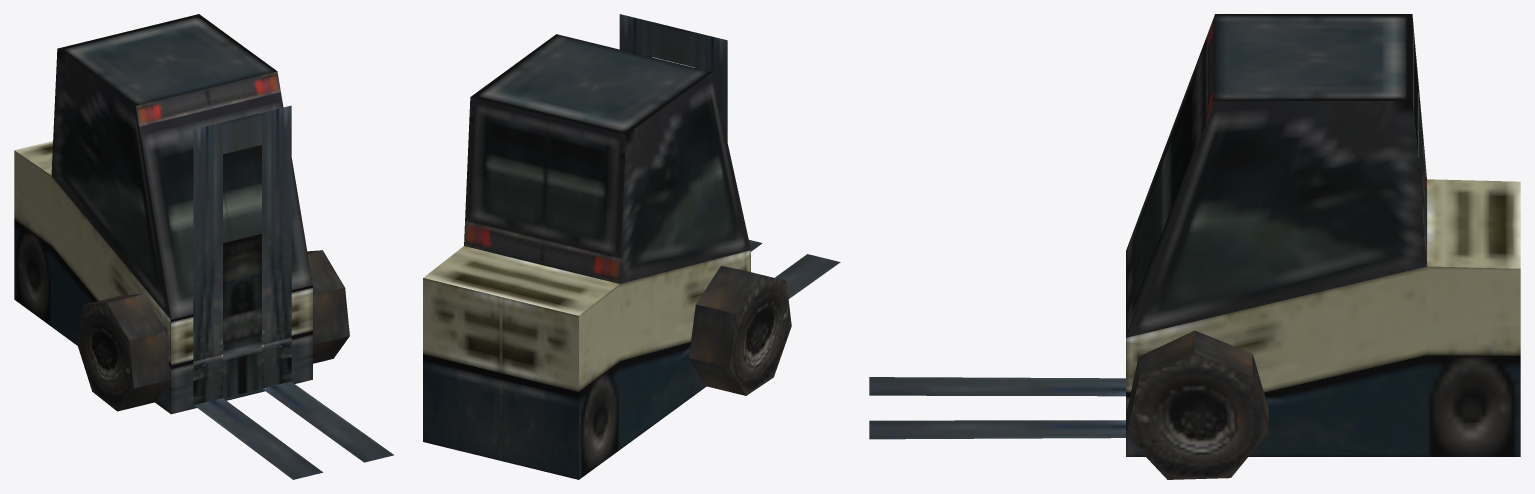
The model's file is enemy_lift.glb.
3 views of the same model, side by side, from view 1: azimuth 30°, elevation 25°; view 2: azimuth 150°, elevation 25°; view 3: azimuth 270°, elevation 25° (orthographic). The views are drawn at different scales.
Visible parts, largest first — view 1: lift, wheels; view 2: lift, wheels; view 3: lift, wheels.
Boxes of the visible parts, left/top/right/bottom form: lift: left=14, top=14, right=393, bottom=479; wheels: left=77, top=250, right=349, bottom=411; lift: left=423, top=14, right=840, bottom=479; wheels: left=689, top=265, right=791, bottom=395; lift: left=869, top=14, right=1520, bottom=456; wheels: left=1126, top=330, right=1268, bottom=479.
Size of the model in its own units: 0.6746 by 0.8427 by 1.4.
1 material, 1 textured.
